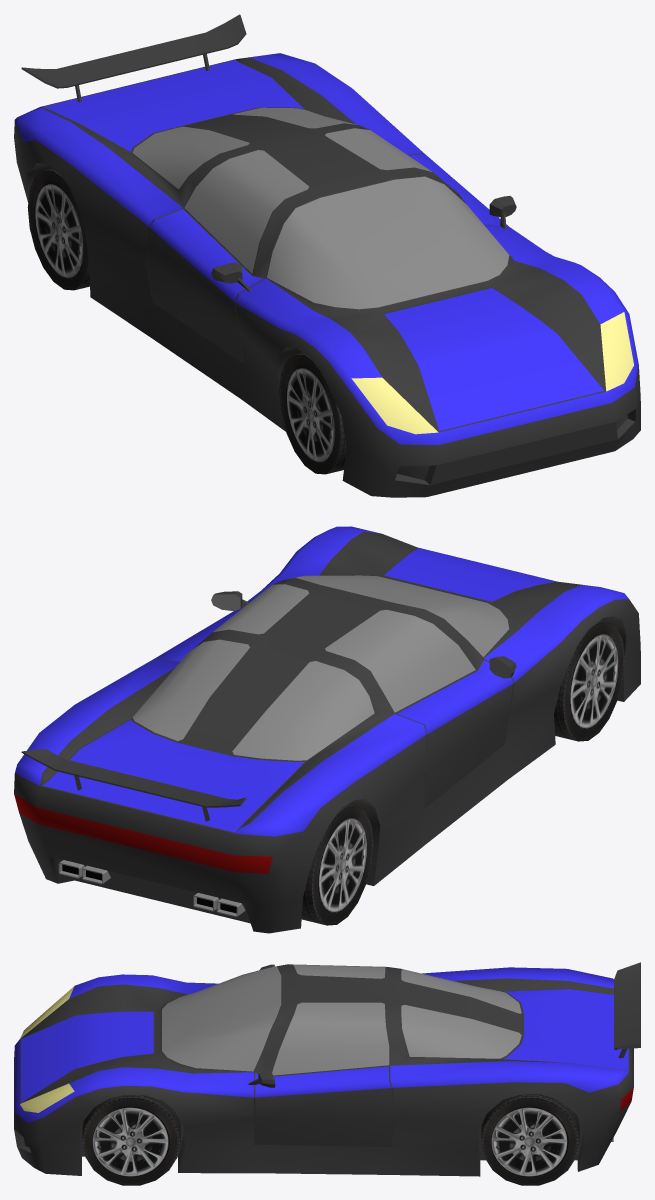
File: car_6.FBX
3 views of the same model, one above another, from view 1: azimuth 30°, elevation 25°; view 2: azimuth 150°, elevation 25°; view 3: azimuth 270°, elevation 25° (orthographic). The views are drawn at different scales.
Parts seen in each view (by area): view 1: Object010, Cylinder056, Cylinder057; view 2: Object010, Cylinder057, Cylinder056; view 3: Object010, Cylinder053, Cylinder054.
Boxes of the visible parts, <box> form: Object010: <box>14,14,640,497</box>; Cylinder056: <box>279,352,346,474</box>; Cylinder057: <box>27,168,89,290</box>; Object010: <box>14,526,640,933</box>; Cylinder057: <box>301,803,373,925</box>; Cylinder056: <box>554,619,624,741</box>; Object010: <box>14,962,640,1176</box>; Cylinder053: <box>481,1094,579,1185</box>; Cylinder054: <box>82,1095,180,1185</box>.
Size of the model in its own units: 2.14 by 1.22 by 4.88.
